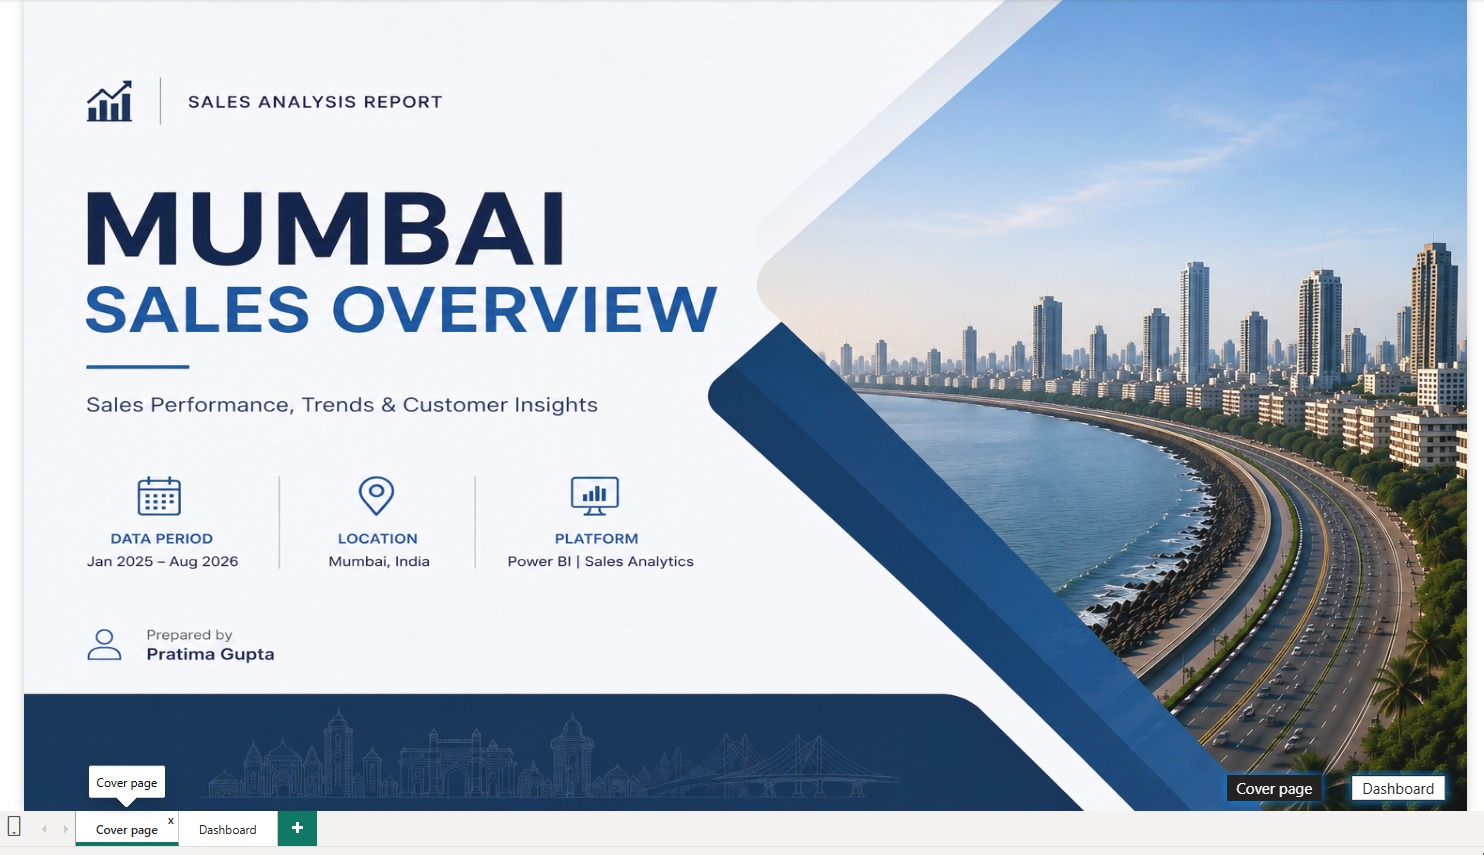

This screenshot's page, from the dashboard's own definition file:
{"tool":"powerbi","page":{"name":"Cover page","canvas":[1280,720],"ordinal":0},"visuals":[{"type":"pageNavigator","box":[1058.7,680.1,211.9,39.9],"z":0}]}

Visuals, with their boxes on the page's 1280x720 design canvas (x1, y1, x2, y2). These are canvas units, not pixel positions in the 1484x855 screenshot, which may show the page scaled, cropped or inside an application window:
pageNavigator: locate(1059, 680, 1271, 720)
